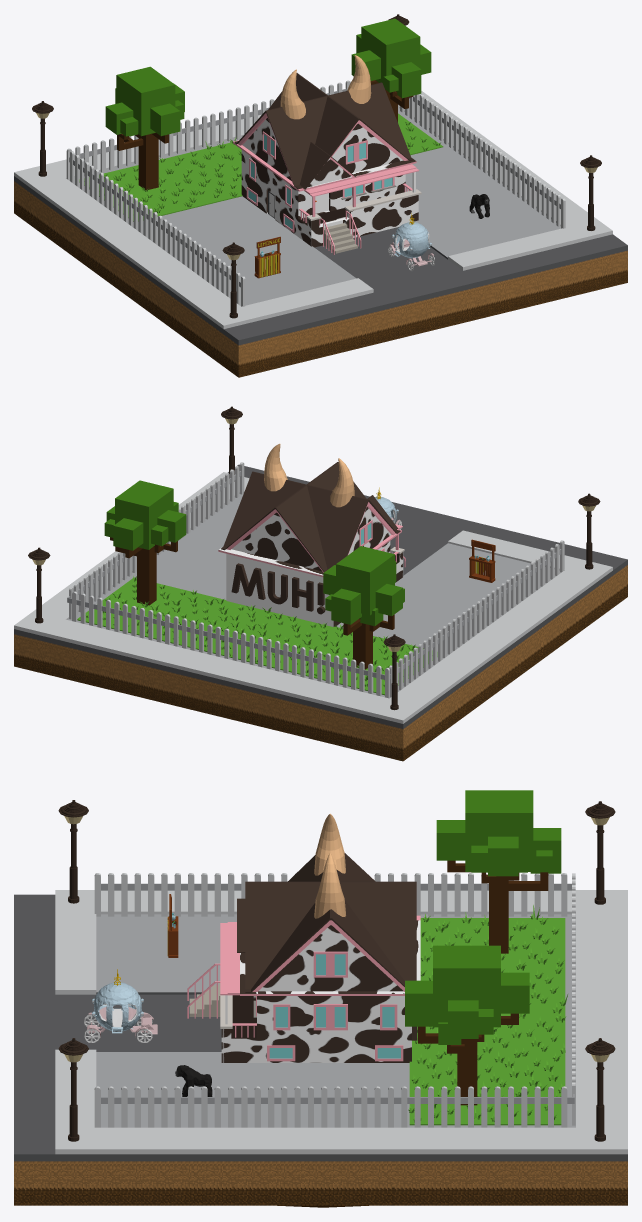
The picture shows the model from 3 angles, top to bottom: view 1: azimuth 30°, elevation 25°; view 2: azimuth 150°, elevation 25°; view 3: azimuth 270°, elevation 25°; orthographic projection. The views are drawn at different scales.
Parts seen in each view (by area): view 1: Cube.004, Cube.1242, VEHICLES_FANTASY_CARRIAGE, OBJRANDOM_LEMONADE_STAND; view 2: Cube.004, Cube.1242, OBJRANDOM_LEMONADE_STAND; view 3: Cube.004, Cube.1242, VEHICLES_FANTASY_CARRIAGE, ANIMAL_GORILA, OBJRANDOM_LEMONADE_STAND.
Boxes of the visible parts, x1,y1,x2,y2 form: Cube.004: (14, 14, 627, 377); Cube.1242: (233, 55, 421, 254); VEHICLES_FANTASY_CARRIAGE: (388, 213, 434, 271); OBJRANDOM_LEMONADE_STAND: (254, 236, 280, 278); Cube.004: (14, 406, 627, 761); Cube.1242: (218, 443, 405, 626); OBJRANDOM_LEMONADE_STAND: (469, 539, 495, 582); Cube.004: (14, 790, 627, 1205); Cube.1242: (187, 813, 420, 1062); VEHICLES_FANTASY_CARRIAGE: (84, 969, 157, 1042); ANIMAL_GORILA: (175, 1065, 212, 1096); OBJRANDOM_LEMONADE_STAND: (167, 894, 178, 957).
Bounding box in the file's own units: 4000 × 1926 × 4000.
Materials: 38 (3 with a texture image).
